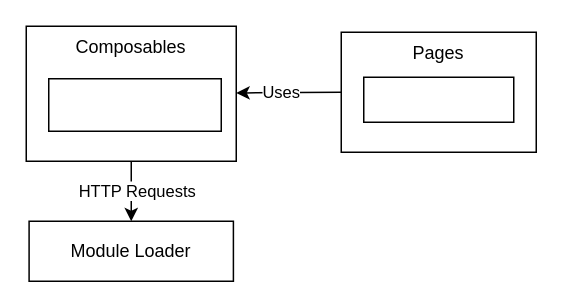
The diagram is 563 pixels wide and 308 high, and some of its shapes have lost their labels. The shapes that lost their labels are listed below. From the top down, each one's centre as x and y in pixels, then its label:
At (134,104): "useModule.js".
At (438,99): "index.vue".
